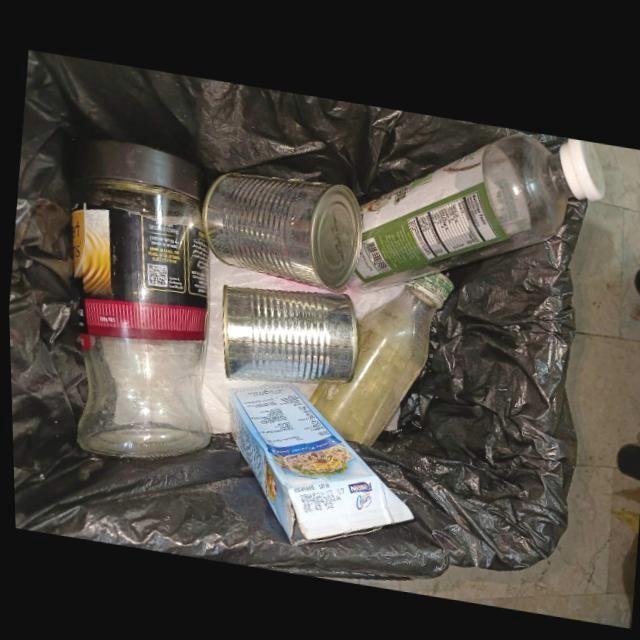aluminum: (198, 169, 362, 289), (219, 282, 355, 380)
glass_bottle: (65, 139, 208, 460), (307, 267, 452, 443)
plastic_bottle: (344, 129, 604, 290)
